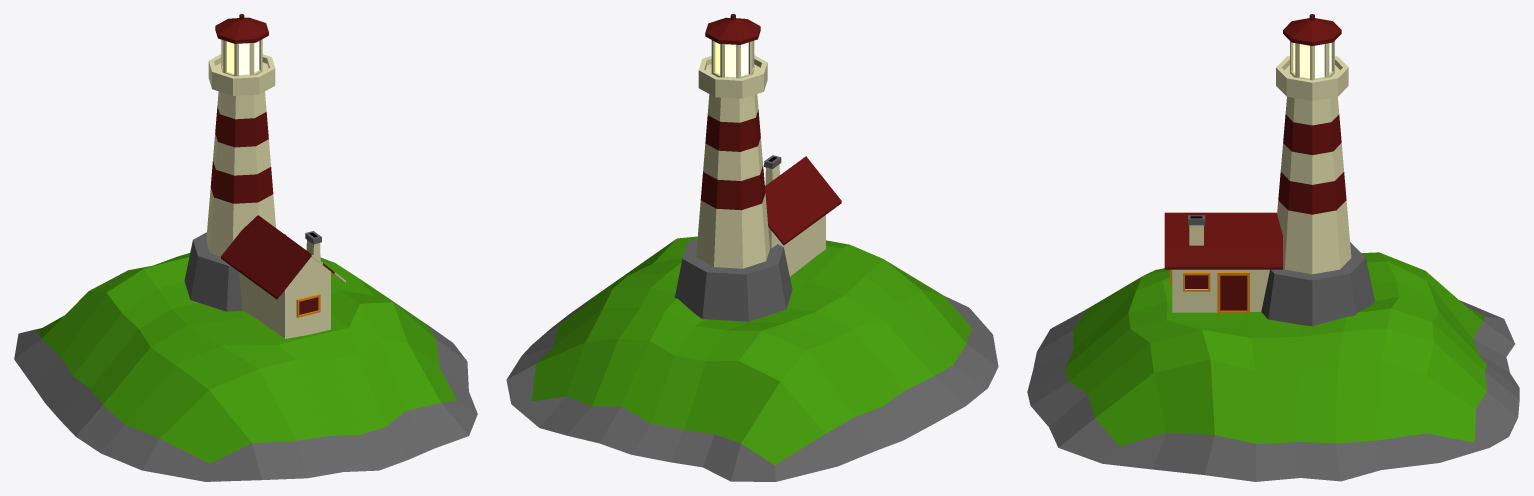
Rendered from faro.glb.
3 views of the same model, side by side, from view 1: azimuth 30°, elevation 25°; view 2: azimuth 150°, elevation 25°; view 3: azimuth 270°, elevation 25° (orthographic). The views are drawn at different scales.
Visible parts, largest first — view 1: isla, faro, casa; view 2: isla, faro, casa; view 3: isla, faro, casa.
Part boxes in pixels (bbox=[...]): isla: bbox=[14, 253, 477, 481]; faro: bbox=[184, 14, 286, 311]; casa: bbox=[221, 215, 345, 338]; isla: bbox=[506, 236, 998, 481]; faro: bbox=[674, 14, 792, 321]; casa: bbox=[764, 155, 841, 276]; isla: bbox=[1027, 252, 1519, 481]; faro: bbox=[1261, 14, 1374, 326]; casa: bbox=[1164, 212, 1282, 313].
Bounding box in the file's own units: 7.36 × 6.66 × 7.84.
